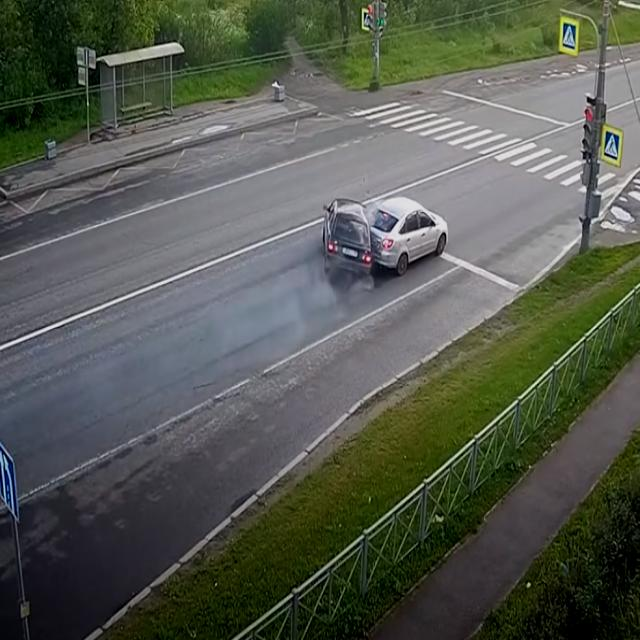accident: (322, 194, 448, 280)
